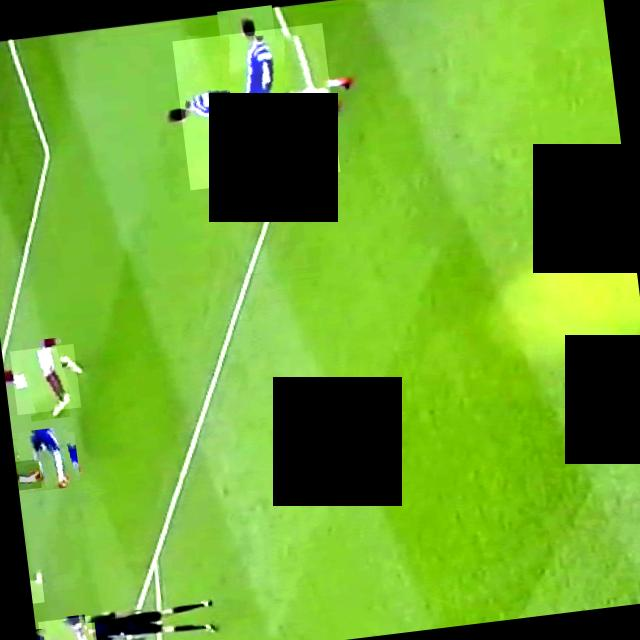goalkeeper: (37, 614, 96, 640), (30, 578, 44, 602)
soccer-player: (172, 22, 340, 188), (10, 342, 80, 413), (12, 425, 80, 491), (15, 457, 41, 489)
